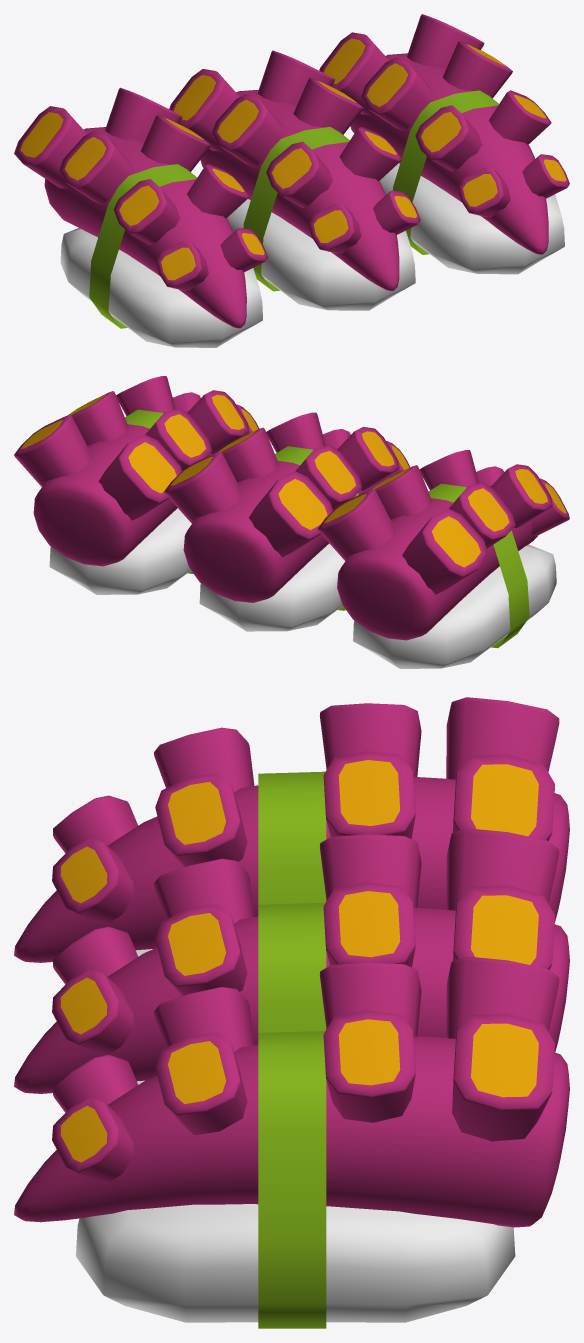
The model's file is Food_OctopusNigiri.glb.
3 views of the same model, one above another, from view 1: azimuth 30°, elevation 25°; view 2: azimuth 150°, elevation 25°; view 3: azimuth 270°, elevation 25° (orthographic). The views are drawn at different scales.
Visible parts, largest first — view 1: Food_OctopusNigiri.002, Food_OctopusNigiri, Food_OctopusNigiri.001; view 2: Food_OctopusNigiri.002, Food_OctopusNigiri, Food_OctopusNigiri.001; view 3: Food_OctopusNigiri.001, Food_OctopusNigiri.002, Food_OctopusNigiri.
Boxes of the visible parts, <box> form: Food_OctopusNigiri.002: <box>14,87,267,347</box>; Food_OctopusNigiri: <box>169,50,420,310</box>; Food_OctopusNigiri.001: <box>319,14,569,274</box>; Food_OctopusNigiri.002: <box>317,450,569,668</box>; Food_OctopusNigiri: <box>164,412,410,631</box>; Food_OctopusNigiri.001: <box>14,376,259,594</box>; Food_OctopusNigiri.001: <box>14,956,569,1328</box>; Food_OctopusNigiri.002: <box>14,697,569,962</box>; Food_OctopusNigiri: <box>14,828,569,1093</box>.
Bounding box in the file's own units: 1.26 × 0.4628 × 0.759.
Materials: 3 (3 with a texture image).
